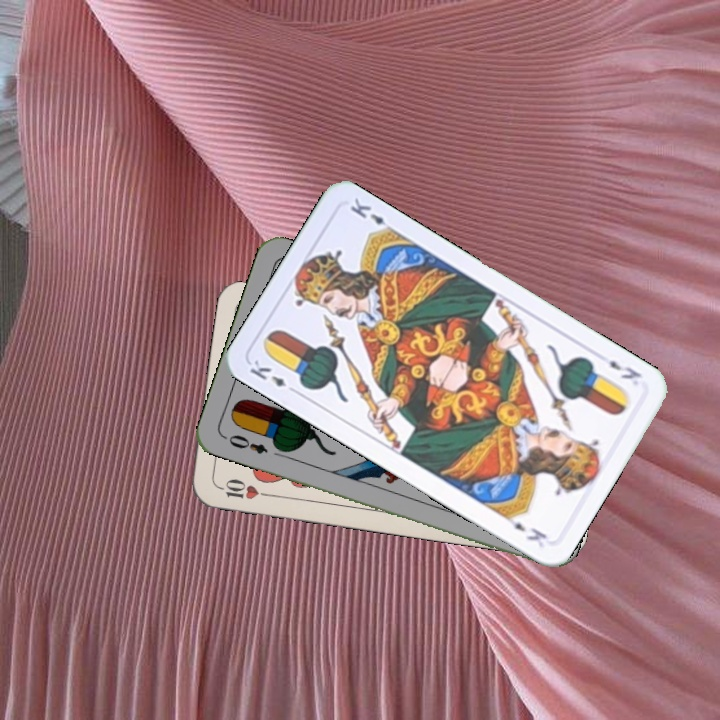EK: (245, 355, 301, 397), (605, 356, 644, 382)
EO: (220, 430, 271, 457)
H10: (214, 475, 274, 502)
